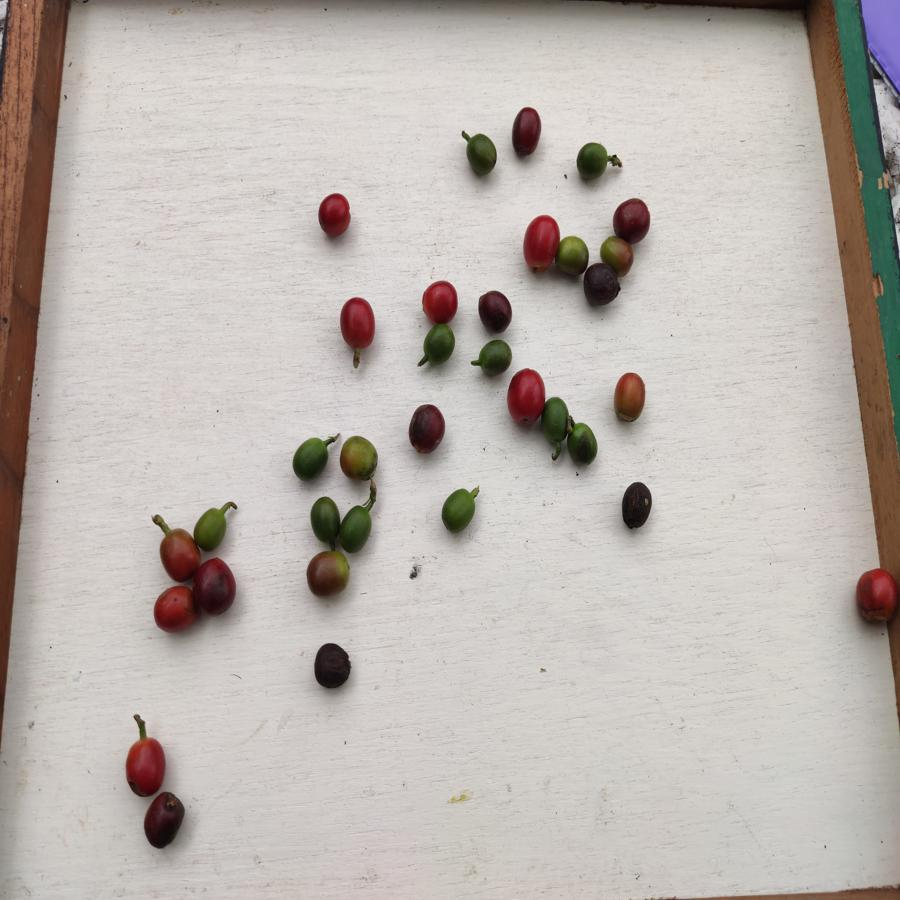Inmaduro: (288, 437, 332, 480), (438, 488, 478, 535), (307, 494, 343, 545), (338, 500, 373, 552), (193, 502, 228, 550), (574, 142, 612, 185), (461, 133, 499, 176), (566, 417, 599, 466), (422, 324, 457, 363), (478, 339, 513, 375), (543, 398, 572, 440)
Maduro: (121, 735, 167, 795), (855, 567, 898, 627), (336, 295, 378, 351), (155, 528, 198, 582), (504, 368, 545, 424), (521, 212, 559, 271), (150, 586, 195, 635), (318, 191, 353, 236), (418, 282, 459, 320)
Pinton: (305, 550, 349, 601), (339, 433, 378, 482), (612, 372, 647, 424), (557, 234, 588, 276), (602, 234, 633, 273)
Sobremaduro: (195, 558, 238, 613), (144, 794, 185, 850), (310, 642, 353, 691), (407, 403, 446, 452), (510, 105, 545, 158), (475, 287, 513, 335), (613, 198, 654, 242), (583, 265, 622, 307), (621, 479, 652, 529)
